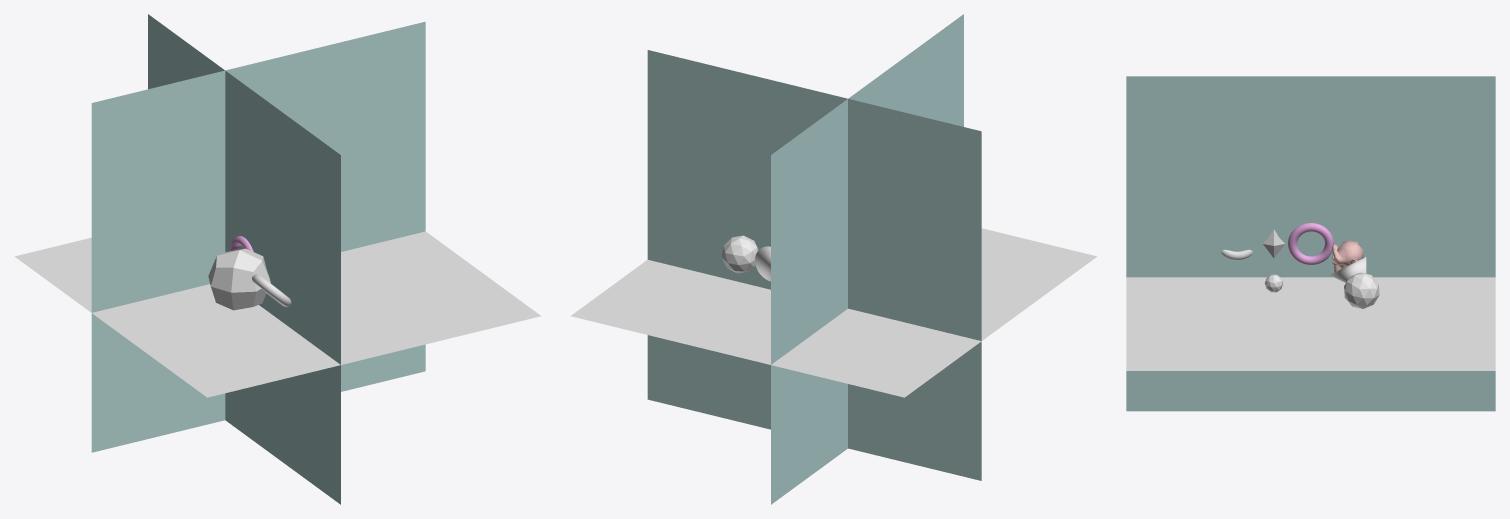
The model's file is room_animated.glb.
The picture shows the model from 3 angles, left to right: view 1: azimuth 30°, elevation 25°; view 2: azimuth 150°, elevation 25°; view 3: azimuth 270°, elevation 25°; orthographic projection. The views are drawn at different scales.
Parts seen in each view (by area): view 1: Plane, Plane.001, Plane.002, Cube; view 2: Plane, Plane.001, Plane.002, Icosphere; view 3: Plane.001, Plane.002, Torus, Icosphere, Suzanne, Cone.
Part boxes in pixels (box(x1,y1,x2,y2)): Plane: box(91, 21, 425, 452); Plane.001: box(148, 14, 340, 504); Plane.002: box(14, 231, 541, 397); Cube: box(208, 248, 270, 310); Plane: box(647, 50, 981, 480); Plane.001: box(771, 14, 963, 504); Plane.002: box(570, 228, 1097, 397); Icosphere: box(722, 235, 758, 273); Plane.001: box(1126, 76, 1495, 411); Plane.002: box(1126, 277, 1495, 370); Torus: box(1288, 223, 1333, 265); Icosphere: box(1344, 272, 1379, 308); Suzanne: box(1332, 240, 1363, 272); Cone: box(1330, 257, 1366, 282).
Bounding box in the file's own units: 10 × 10 × 10.
